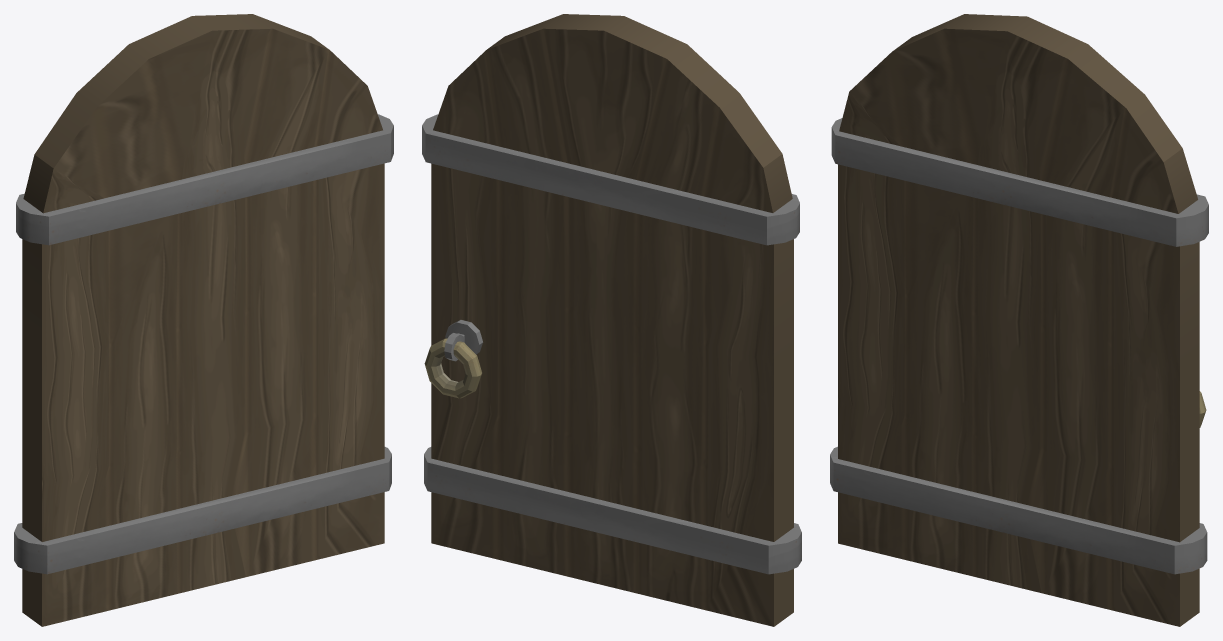
File: medieval_door.glb
The picture shows the model from 3 angles, left to right: view 1: azimuth 30°, elevation 25°; view 2: azimuth 150°, elevation 25°; view 3: azimuth 330°, elevation 25°; orthographic projection.
Visible parts, largest first — view 1: deur; view 2: deur; view 3: deur.
Part boxes in pixels (x1,y1,x2,y2): deur: [14, 14, 393, 626]; deur: [422, 14, 801, 626]; deur: [830, 14, 1208, 626].
Size of the model in its own units: 108 by 155 by 21.37.
2 materials, 2 textured.
